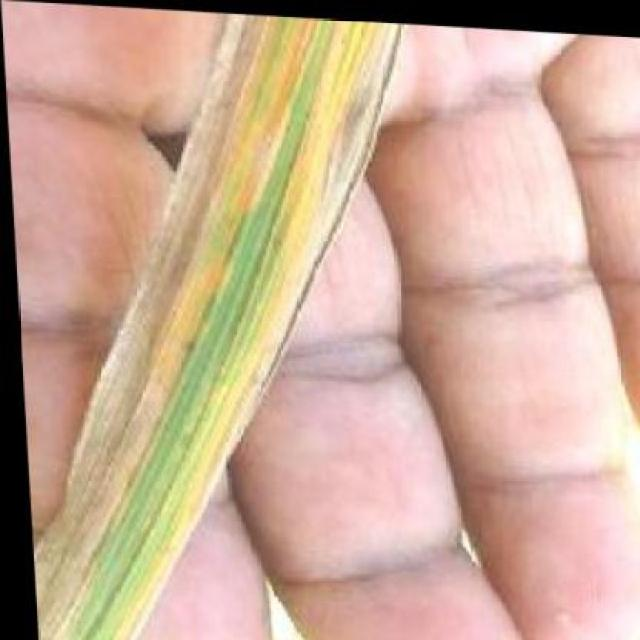Brown_Spot: (45, 8, 433, 530)
